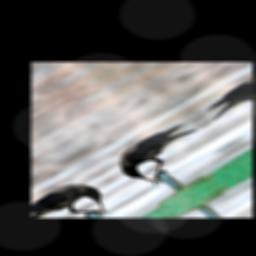Crow: (106, 116, 218, 189)
